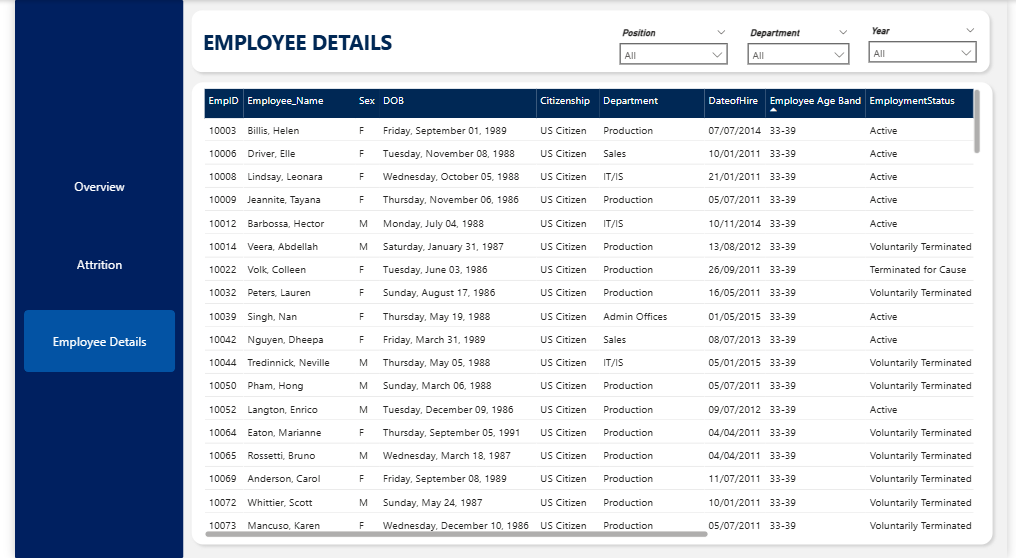

The page's visual inventory and layout, read from the dashboard file:
{"tool":"powerbi","page":{"name":"Employee Details","canvas":[1280,720],"ordinal":2},"visuals":[{"type":"slicer","fields":{"Values":["Date Table.Year"]},"box":[1091.6,28.4,158.7,60.6],"z":0},{"type":"textbox","box":[237.8,31.1,383.8,55.4],"z":1},{"type":"tableEx","fields":{"Values":["HRDataset.EmpID","HRDataset.Employee_Name","HRDataset.Sex","HRDataset.DOB","HRDataset.Citizenship","HRDataset.Department","HRDataset.DateofHire","HRDataset.Employee Age Band","HRDataset.EmploymentStatus","HRDataset.Marital Status","HRDataset.Position","HRDataset.Race"]},"box":[238.1,110.1,1011.6,589.1],"z":2},{"type":"slicer","fields":{"Values":["HRDataset.Department"]},"box":[935.5,31,151,60.6],"z":3},{"type":"slicer","fields":{"Values":["HRDataset.Position"]},"box":[770.3,31,158.7,60.6],"z":4},{"type":"pageNavigator","box":[11,199.6,195.4,282.2],"z":5}]}

Visuals, with their boxes on the page's 1280x720 design canvas (x1, y1, x2, y2). These are canvas units, not pixel positions in the 1016x558 screenshot, which may show the page scaled, cropped or inside an application window:
slicer - Date Table.Year: {"left": 1092, "top": 28, "right": 1250, "bottom": 89}
textbox: {"left": 238, "top": 31, "right": 622, "bottom": 86}
tableEx - HRDataset.EmpID x HRDataset.Employee_Name: {"left": 238, "top": 110, "right": 1250, "bottom": 699}
slicer - HRDataset.Department: {"left": 936, "top": 31, "right": 1086, "bottom": 92}
slicer - HRDataset.Position: {"left": 770, "top": 31, "right": 929, "bottom": 92}
pageNavigator: {"left": 11, "top": 200, "right": 206, "bottom": 482}
